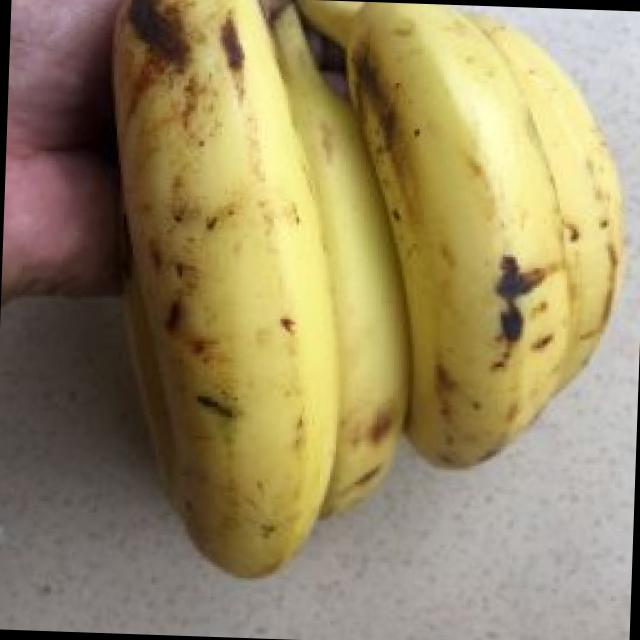banana: (77, 0, 640, 570)
